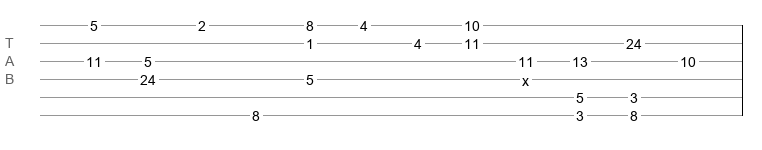1: (306, 36, 314, 46)
10: (464, 18, 480, 28), (680, 54, 696, 64)
11: (86, 54, 102, 64), (464, 36, 480, 46), (518, 54, 534, 64)
13: (572, 54, 588, 64)
2: (198, 18, 206, 28)
24: (140, 72, 156, 82), (626, 36, 642, 46)
3: (576, 108, 584, 118), (630, 90, 638, 100)
4: (360, 18, 368, 28), (414, 36, 422, 46)
5: (90, 18, 98, 28), (144, 54, 152, 64), (306, 72, 314, 82), (576, 90, 584, 100)
8: (252, 108, 260, 118), (306, 18, 314, 28), (630, 108, 638, 118)
x: (522, 73, 529, 81)
